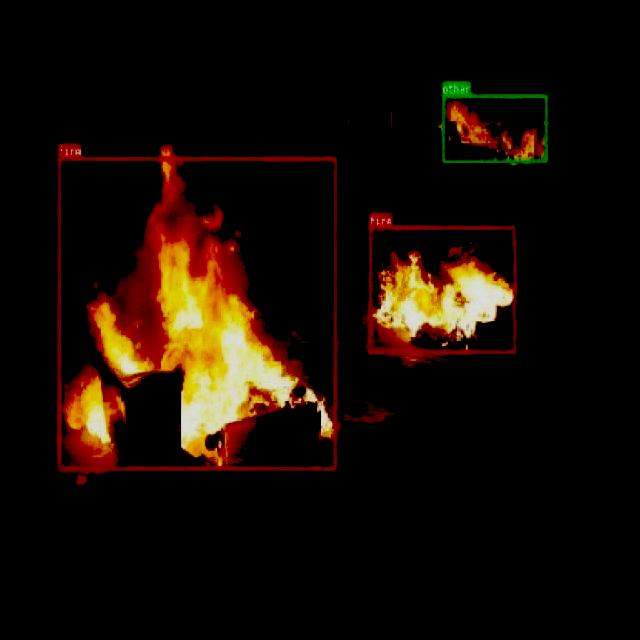fire: (57, 156, 336, 470), (368, 226, 516, 352)
